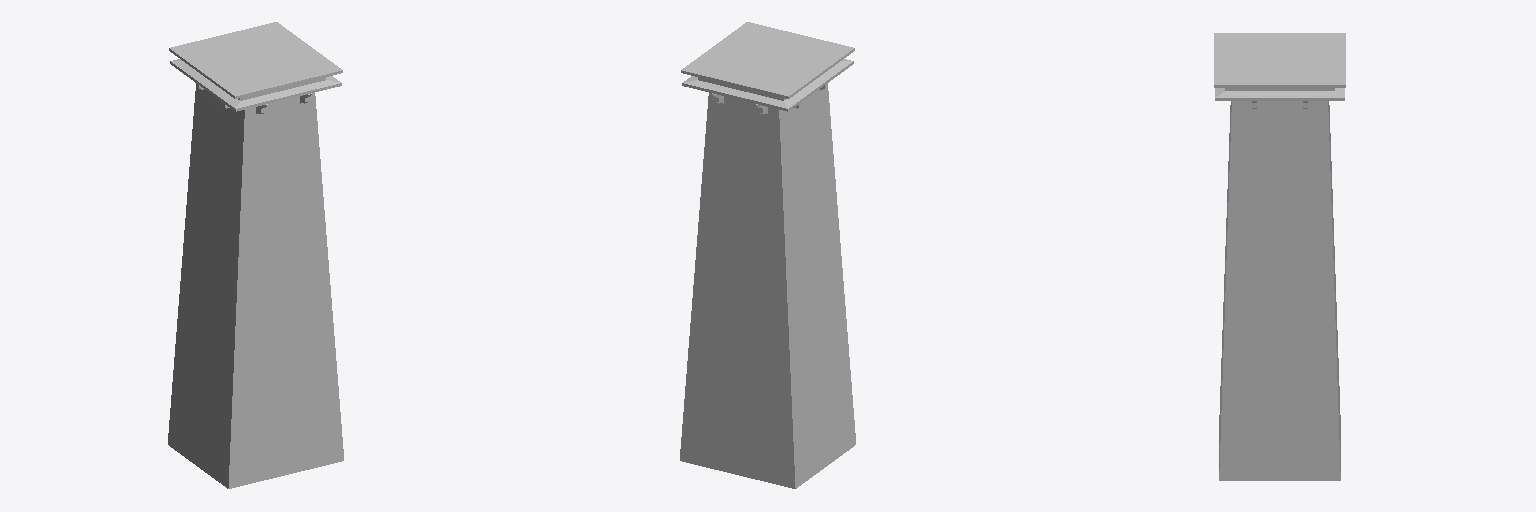
Rendered from TheKeepColumnLeft.obj.
The picture shows the model from 3 angles: view 1: azimuth 30°, elevation 25°; view 2: azimuth 150°, elevation 25°; view 3: azimuth 270°, elevation 25°; orthographic projection.
Parts seen in each view (by area): view 1: Cube.002_Cube.007; view 2: Cube.002_Cube.007; view 3: Cube.002_Cube.007.
Boxes of the visible parts, <box> form: Cube.002_Cube.007: <box>168,22,343,488</box>; Cube.002_Cube.007: <box>680,22,855,488</box>; Cube.002_Cube.007: <box>1214,33,1345,480</box>.
Size of the model in its own units: 52.83 by 171 by 52.38.